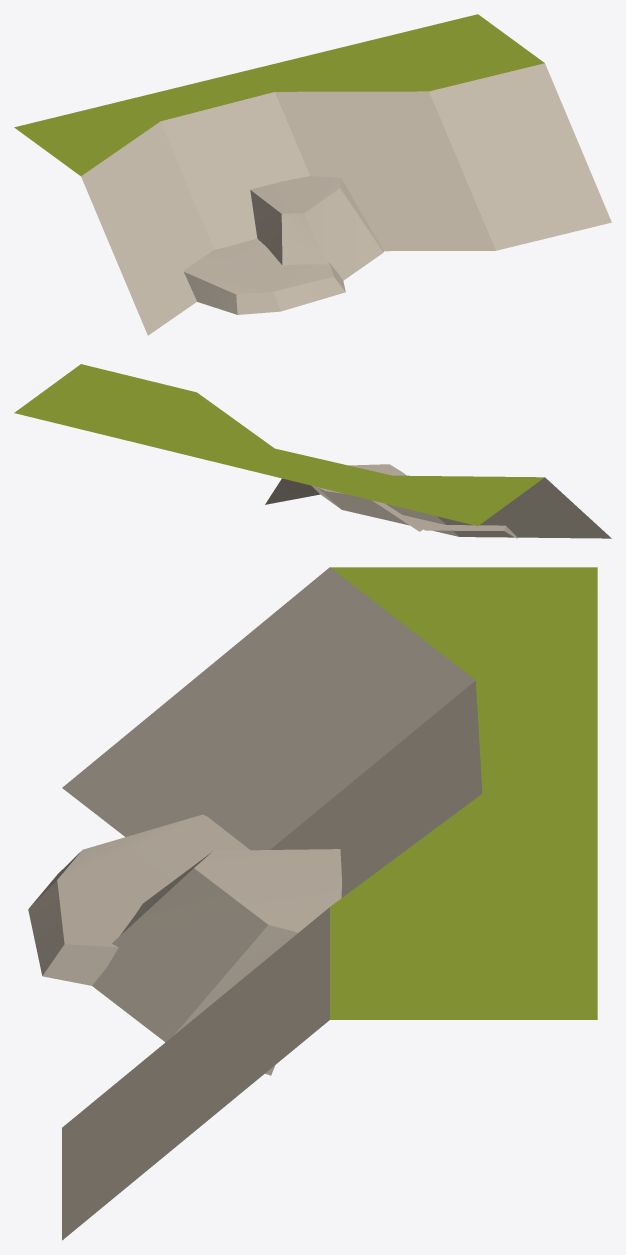
Rendered from Grid_Cell_Water_B.DAE.
The picture shows the model from 3 angles, top to bottom: view 1: azimuth 30°, elevation 25°; view 2: azimuth 150°, elevation 25°; view 3: azimuth 270°, elevation 25°; orthographic projection. The views are drawn at different scales.
Parts seen in each view (by area): view 1: Bank2; view 2: Bank2; view 3: Bank2.
Boxes of the visible parts, x1,y1,x2,y2 form: Bank2: (14, 14, 611, 335); Bank2: (14, 364, 611, 538); Bank2: (28, 567, 597, 1240).
Size of the model in its own units: 1 by 0.2273 by 0.5315.
